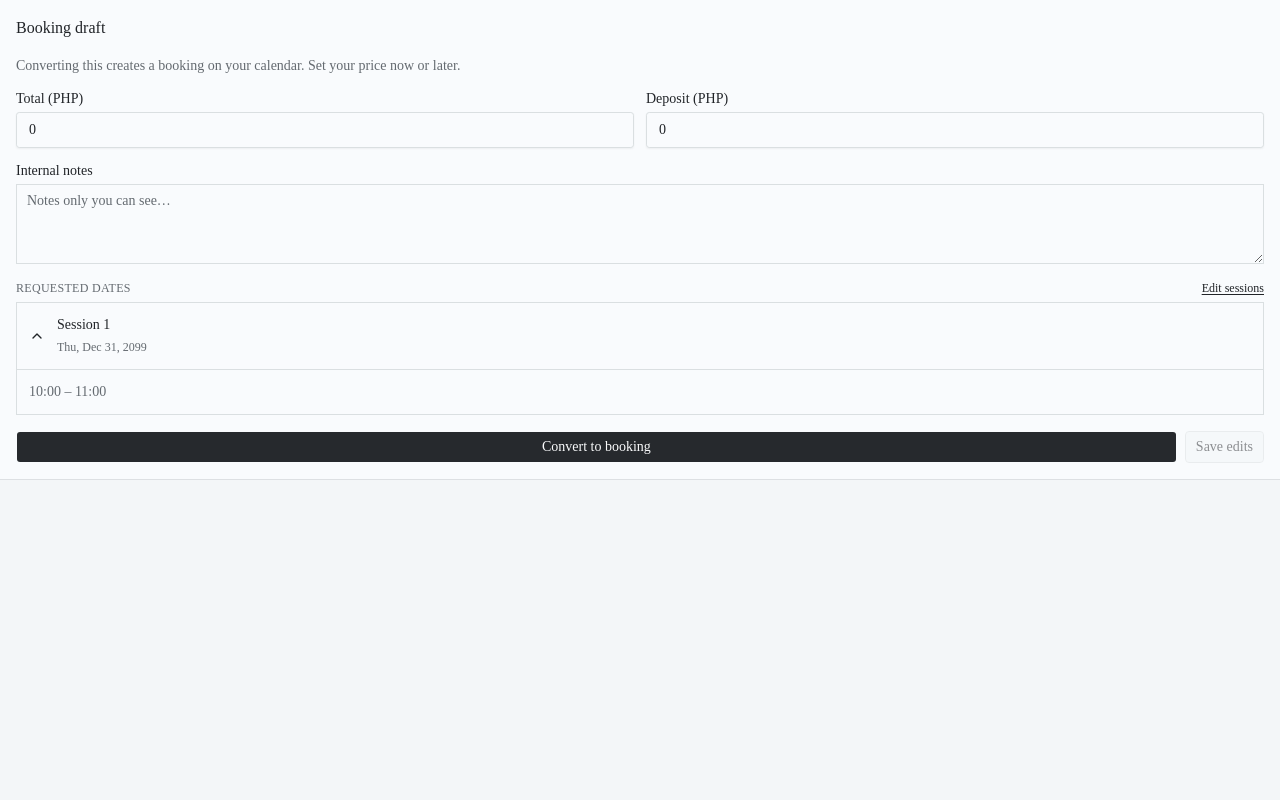
Test: BookingDraftCard › moves end to start + 1h when start is changed past end
Click the button "Edit sessions" at (1233, 288), box [1202,280,1264,296]
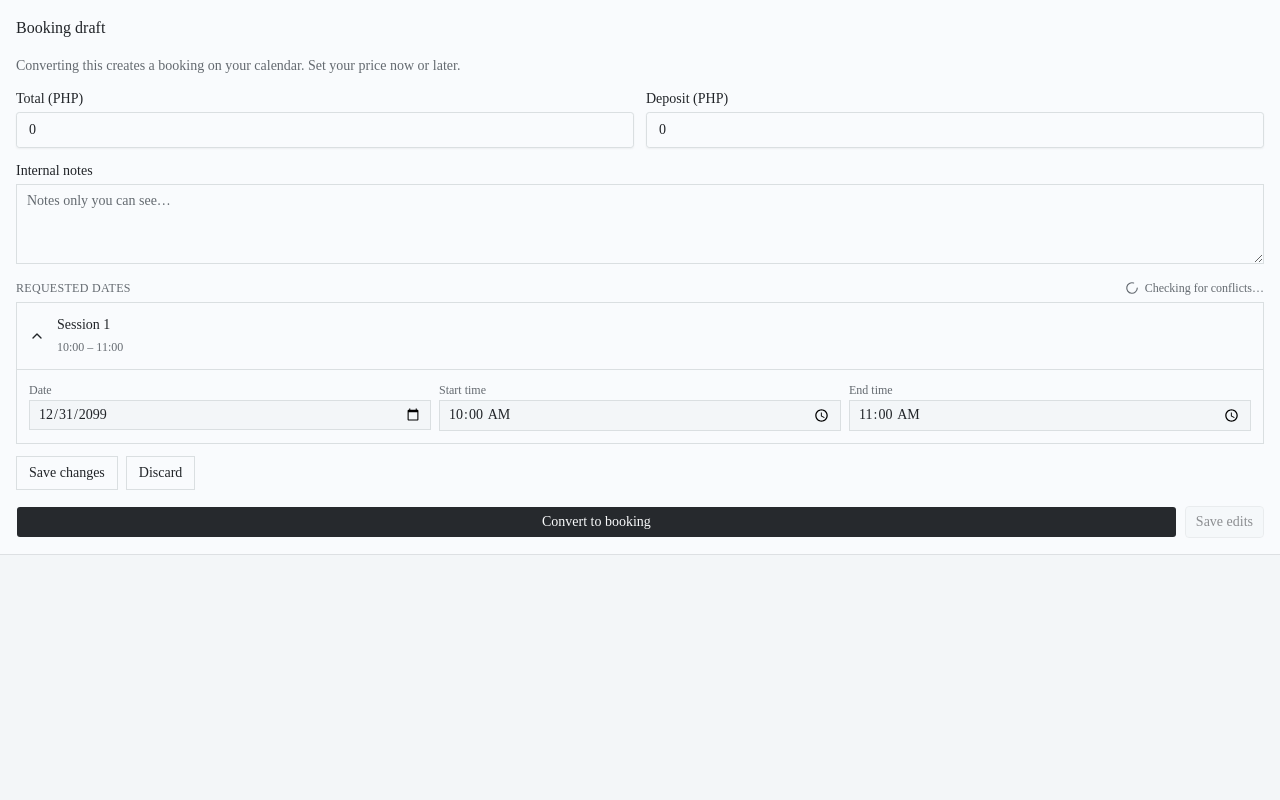
Replace the text in the time field below "Start time" with "14:00" at (640, 415), box [439,400,841,431]
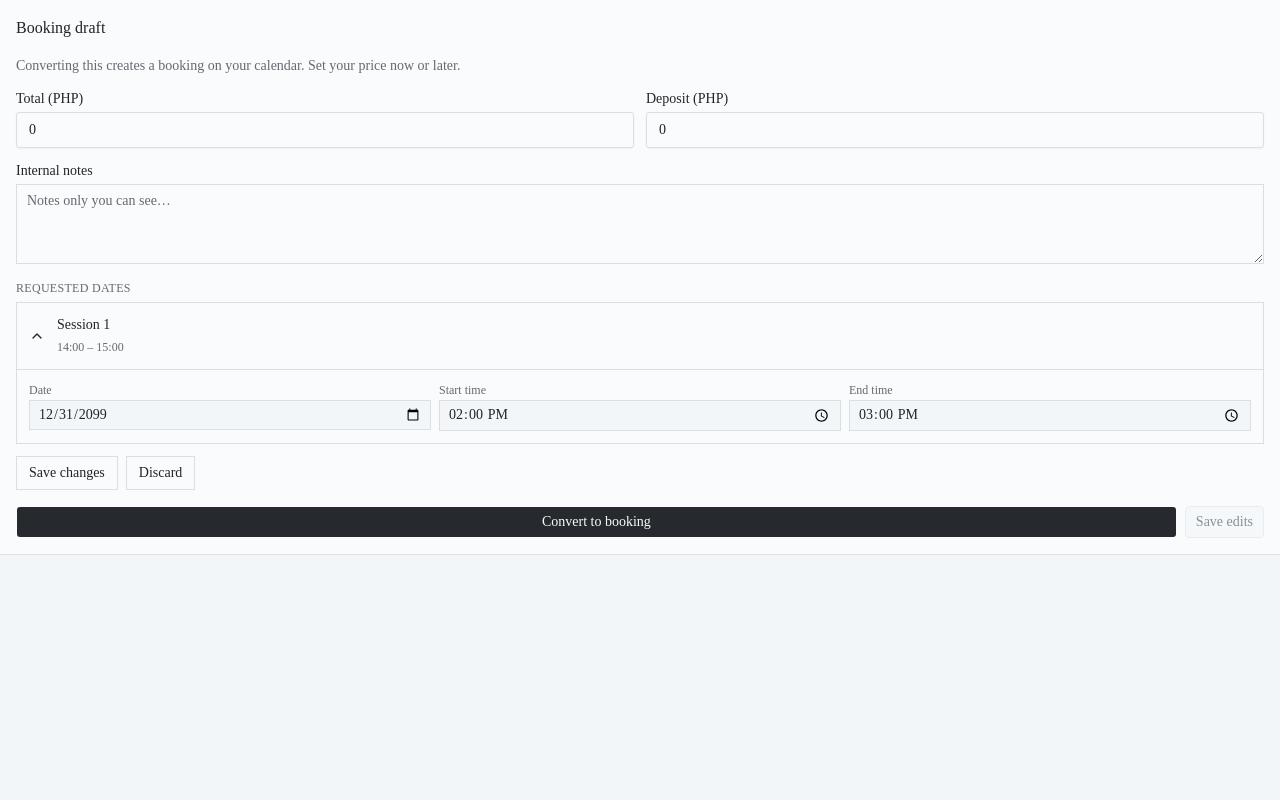
Check: the time field below "End time" holds "15:00", box [849,400,1251,431]
